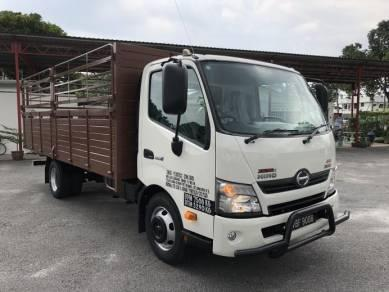truck: (20, 42, 350, 263)
